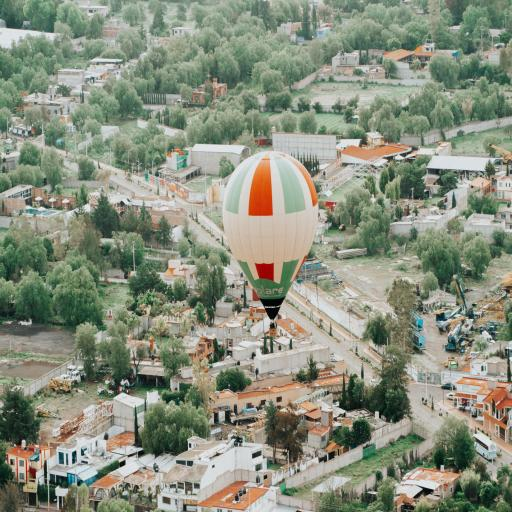hot air ballon: (223, 150, 319, 337)
